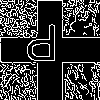P: (25, 25, 58, 70)
